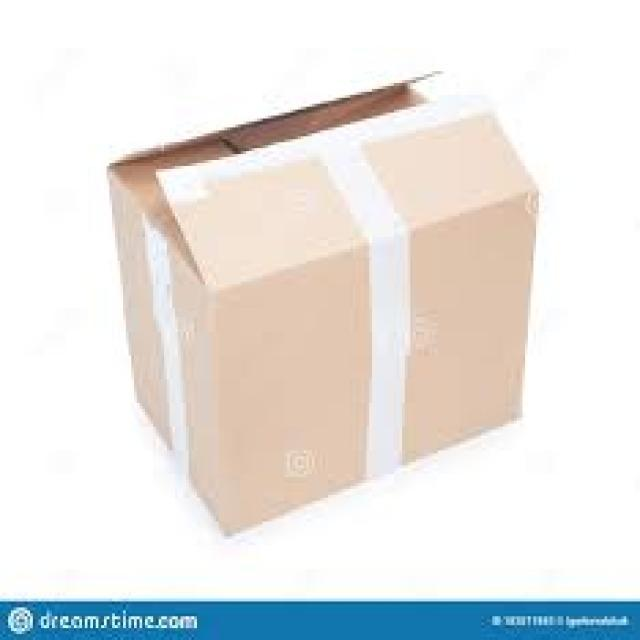Cardboard: (105, 68, 536, 546)
